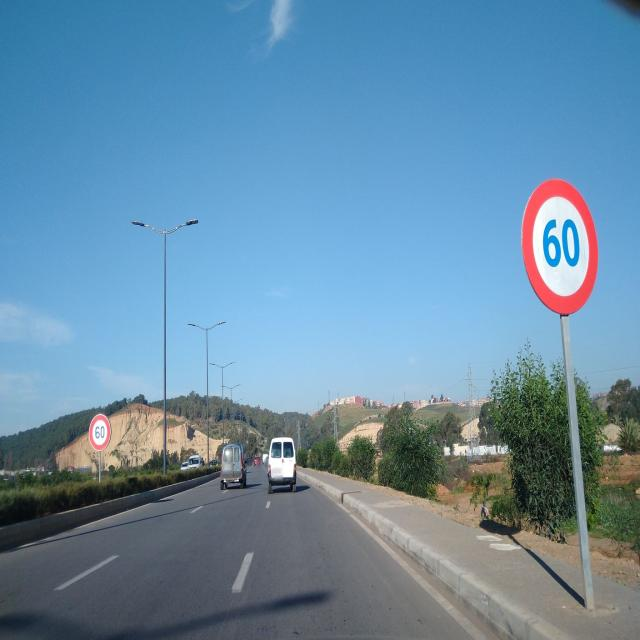car: (268, 436, 297, 492), (220, 443, 247, 488)
